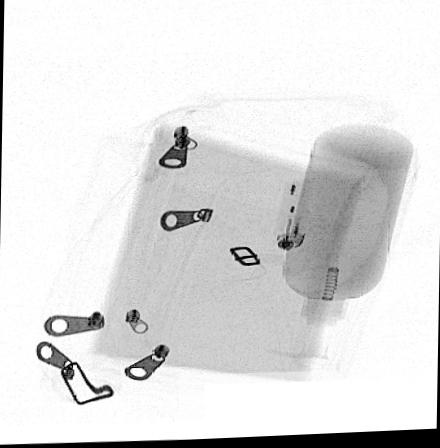Lighter: (275, 183, 314, 254)
